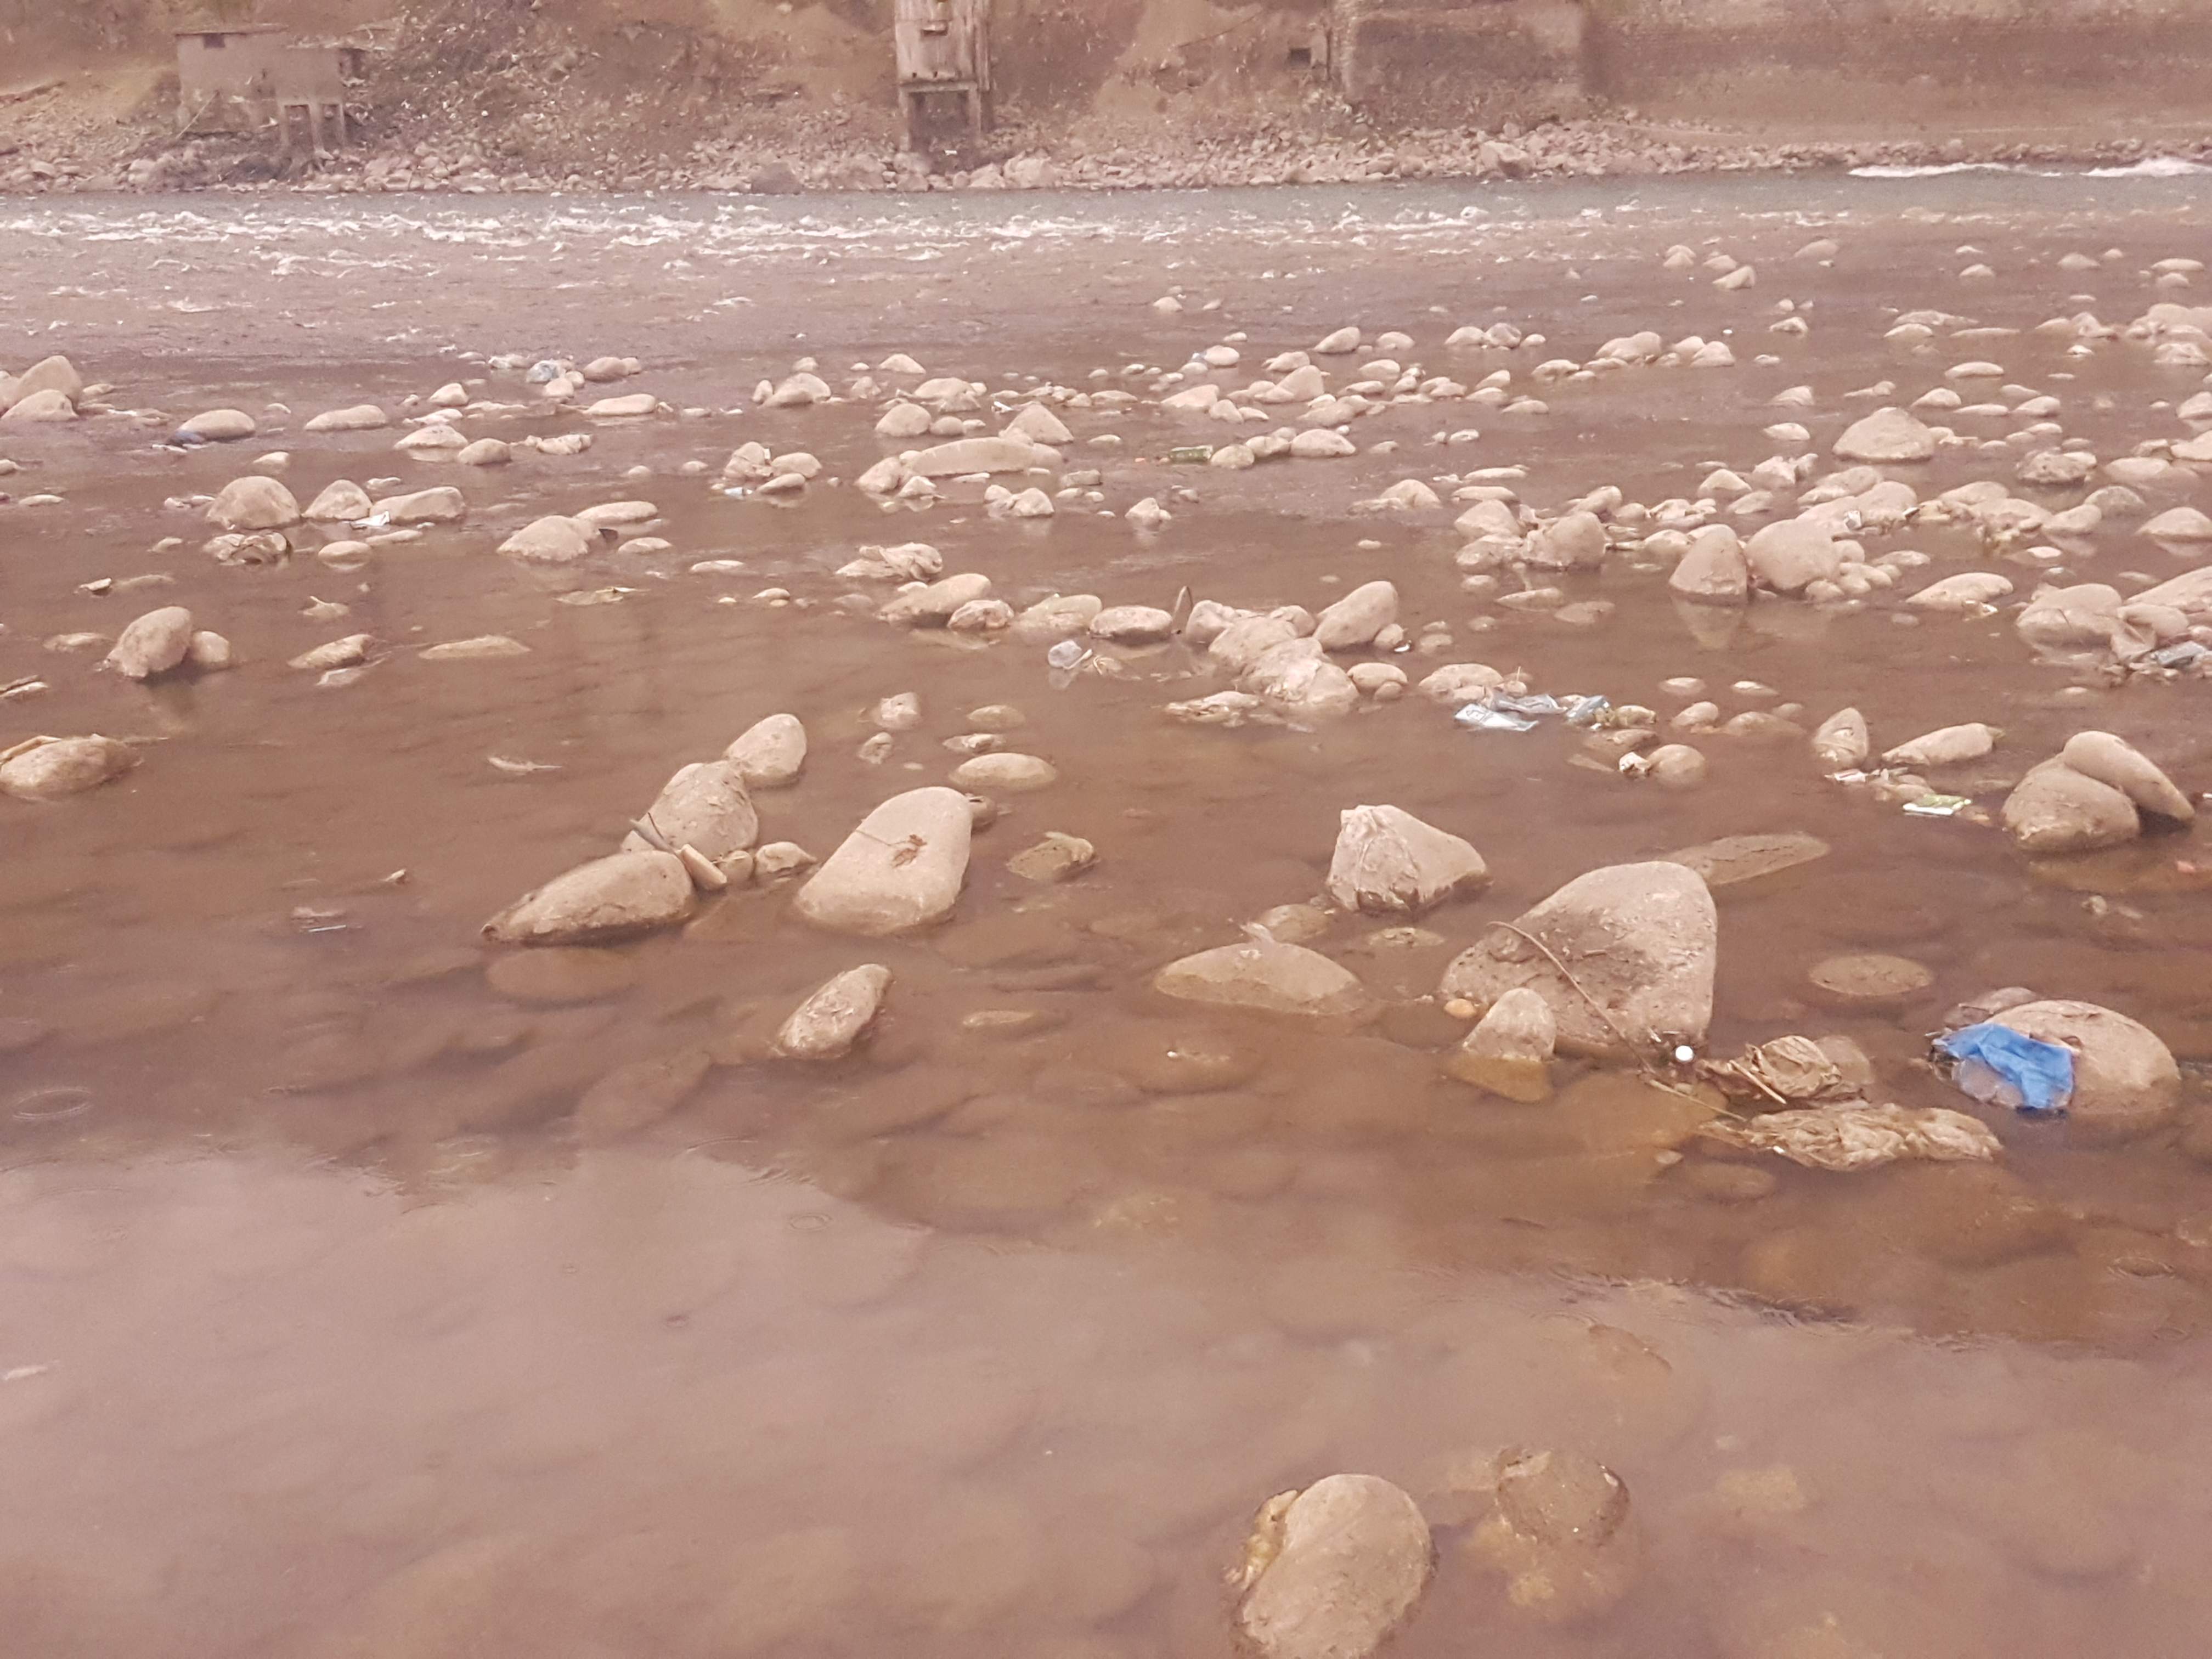Plastic Bottle: (1049, 634, 1092, 667), (725, 486, 752, 497)
